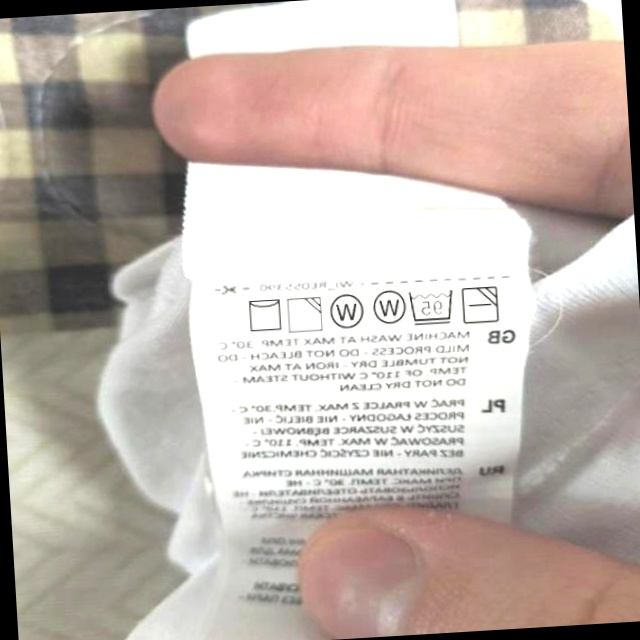95C: (406, 286, 456, 327)
dry_flat_in_shade: (460, 282, 502, 326)
line_dry: (243, 294, 285, 334)
shade_dry: (285, 294, 325, 335)
wet_clean: (327, 291, 366, 332), (369, 285, 406, 327)
